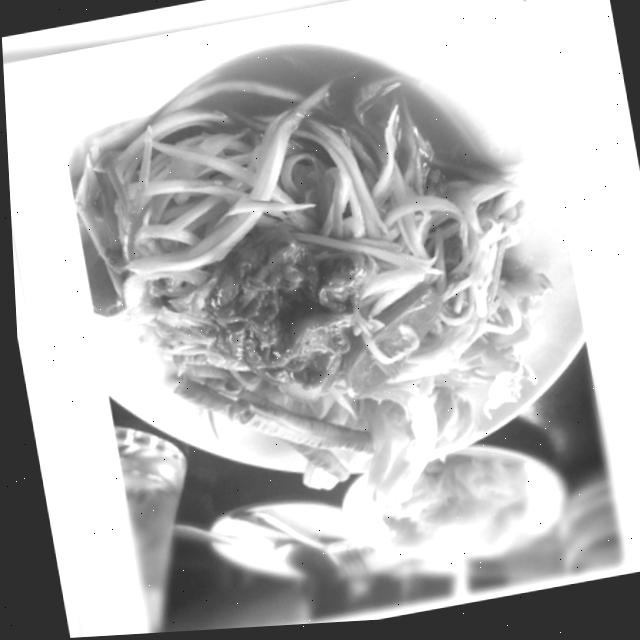蔬菜料理: (45, 0, 595, 545)
